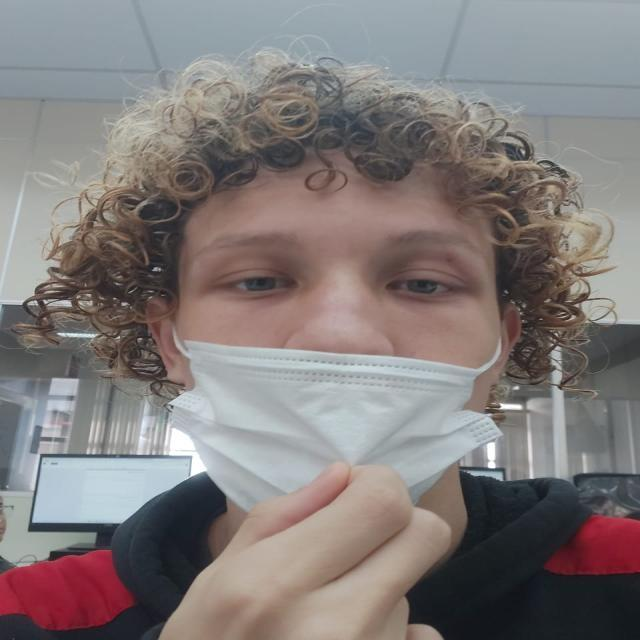hairnet: (169, 164, 516, 474)
